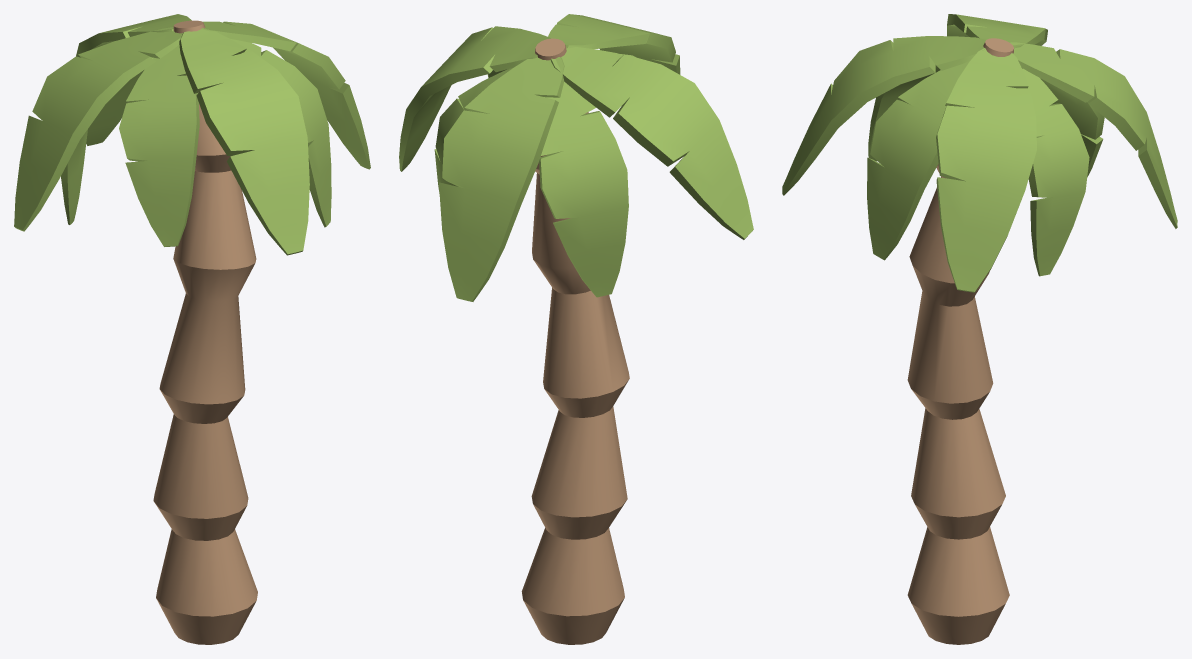
Rendered from palm_tree.glb.
3 renders of one model, left to right at view 1: azimuth 30°, elevation 25°; view 2: azimuth 150°, elevation 25°; view 3: azimuth 270°, elevation 25°, orthographic.
Visible parts, largest first — view 1: palm_tree; view 2: palm_tree; view 3: palm_tree.
Part boxes in pixels (<box>): palm_tree: <box>14,14,370,644</box>; palm_tree: <box>399,14,753,644</box>; palm_tree: <box>782,14,1177,644</box>.
Size of the model in its own units: 1.89 by 3.11 by 1.89.
1 material, 1 textured.
